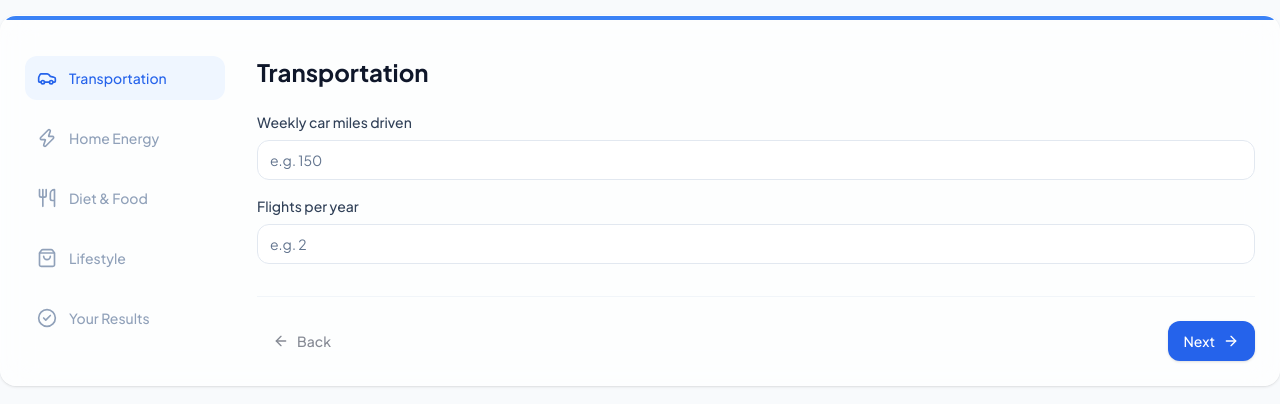
Test: Calculator › navigates to the next step on Next click
Click the button "Next" at [1211, 341], box top-left (1168, 321), bottom-right (1255, 361)
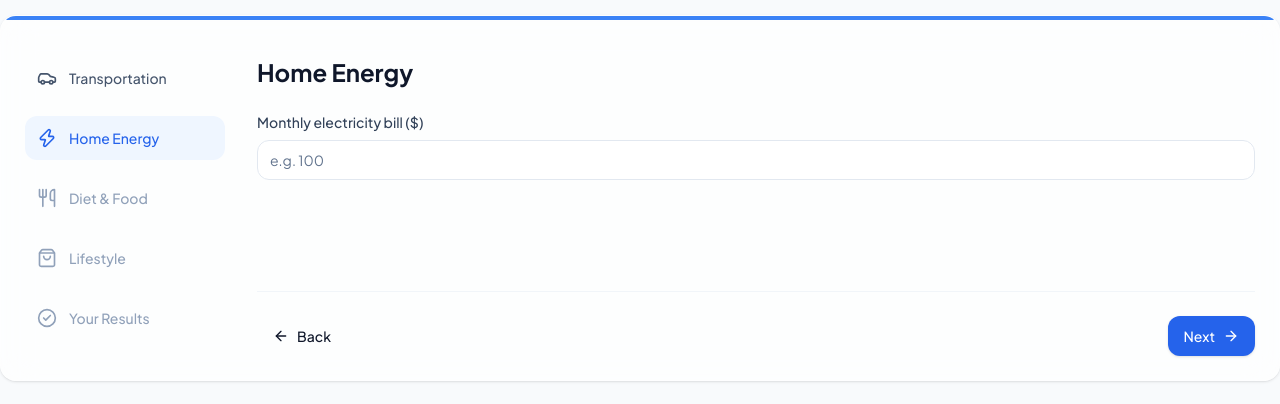
Now the heading "Home Energy" is shown, box top-left (257, 57), bottom-right (413, 87)
